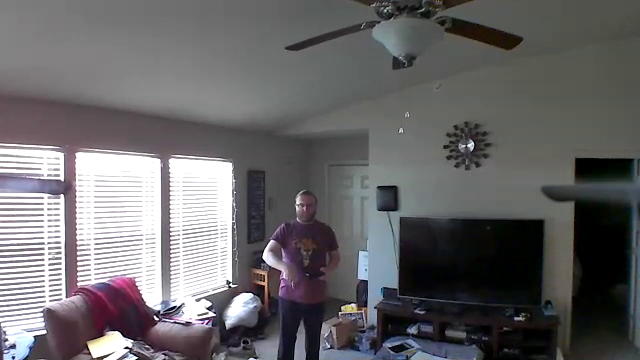down: (273, 258, 300, 289)
